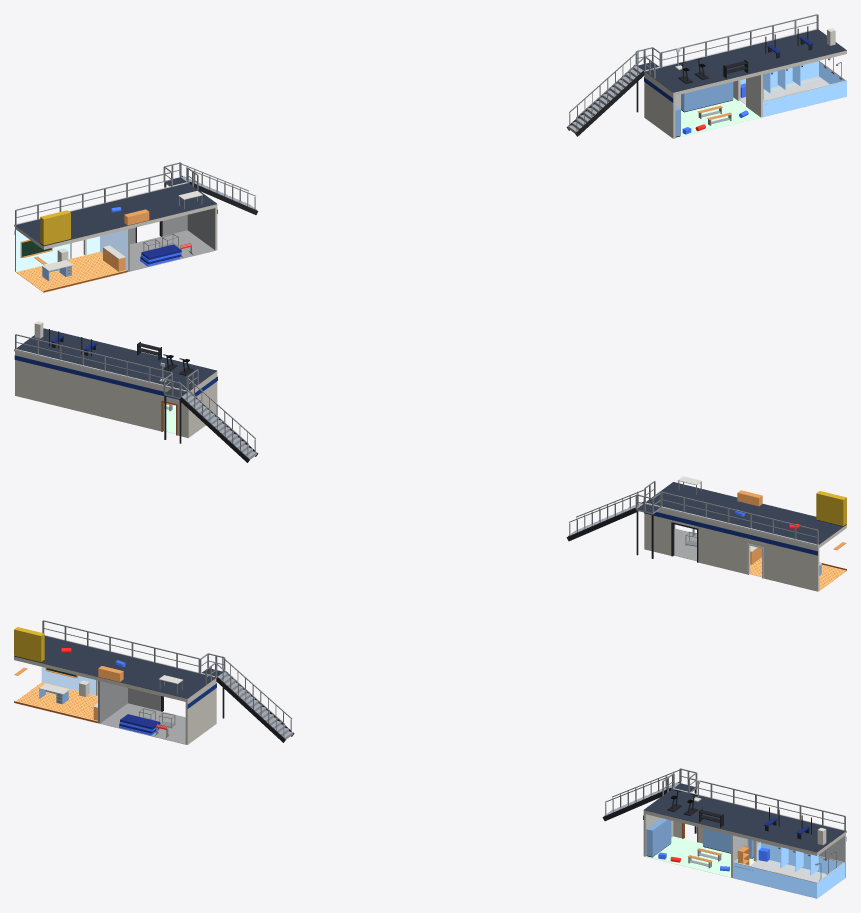
Rendered from SM_Gym_Annex.fbx.
The picture shows the model from 3 angles, top to bottom: view 1: azimuth 30°, elevation 25°; view 2: azimuth 150°, elevation 25°; view 3: azimuth 330°, elevation 25°; orthographic projection.
Visible parts, largest first — view 1: SM_Gym_Annex; view 2: SM_Gym_Annex; view 3: SM_Gym_Annex.
Boxes of the visible parts, x1=… form: SM_Gym_Annex: x1=14, y1=14, x2=846, y2=292; SM_Gym_Annex: x1=14, y1=321, x2=846, y2=591; SM_Gym_Annex: x1=14, y1=620, x2=846, y2=898.
Bounding box in the file's own units: 59.28 × 5.33 × 4.76.
